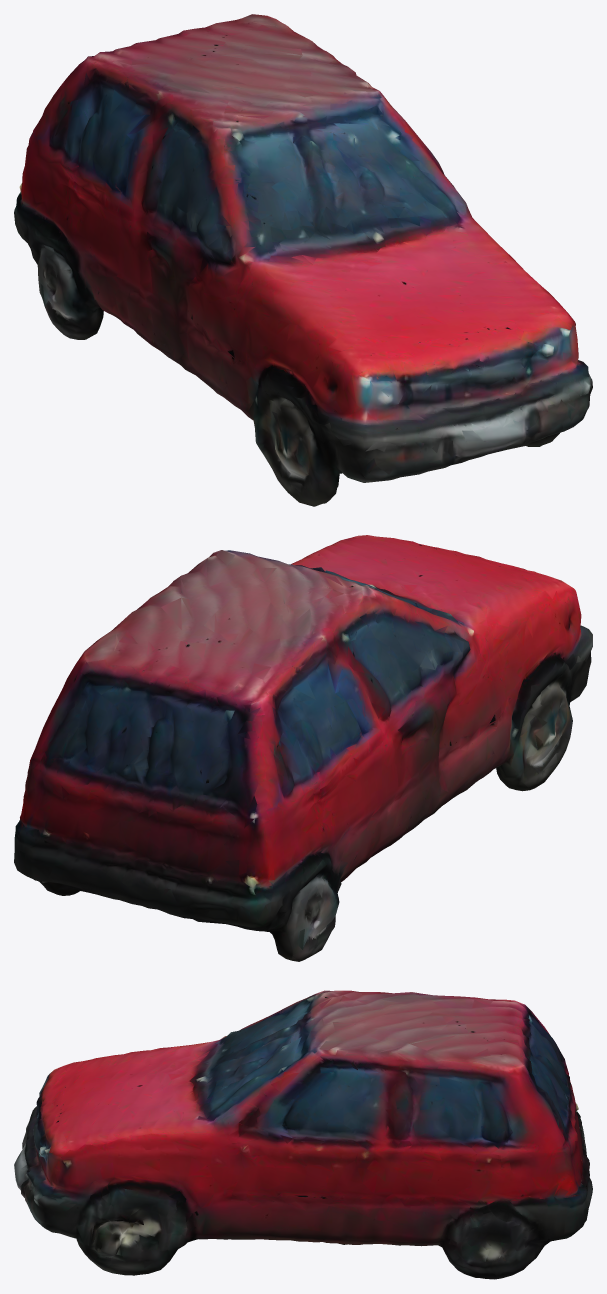
File: maruti_red.glb
3 views of the same model, one above another, from view 1: azimuth 30°, elevation 25°; view 2: azimuth 150°, elevation 25°; view 3: azimuth 270°, elevation 25° (orthographic). The views are drawn at different scales.
Visible parts, largest first — view 1: body; view 2: body; view 3: body.
Part boxes in pixels (<box>): body: <box>14,14,592,506</box>; body: <box>14,535,592,961</box>; body: <box>14,990,592,1279</box>.
Bounding box in the file's own units: 1.44 × 1.41 × 3.34.
Materials: 1 (1 with a texture image).
